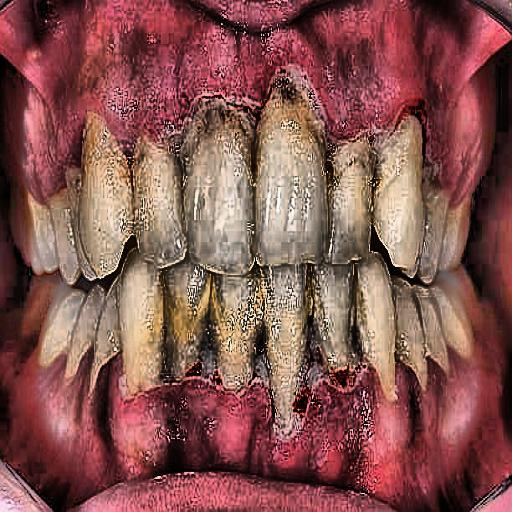Calculus: (18, 57, 484, 264), (21, 269, 497, 452)
